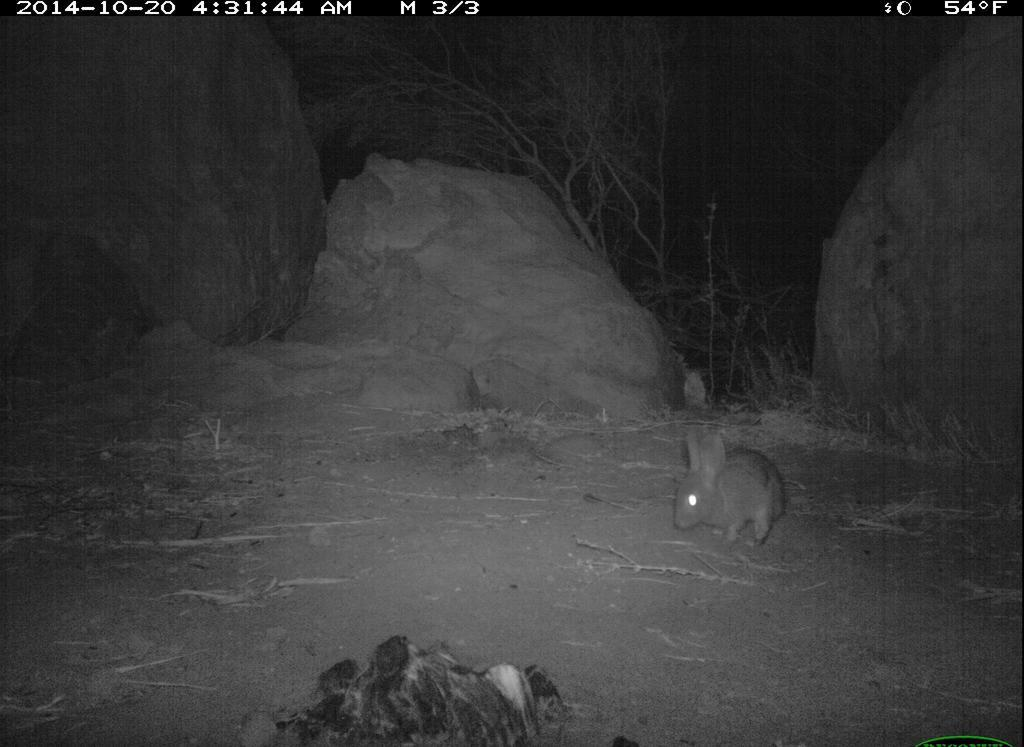rabbit: (670, 418, 798, 550)
